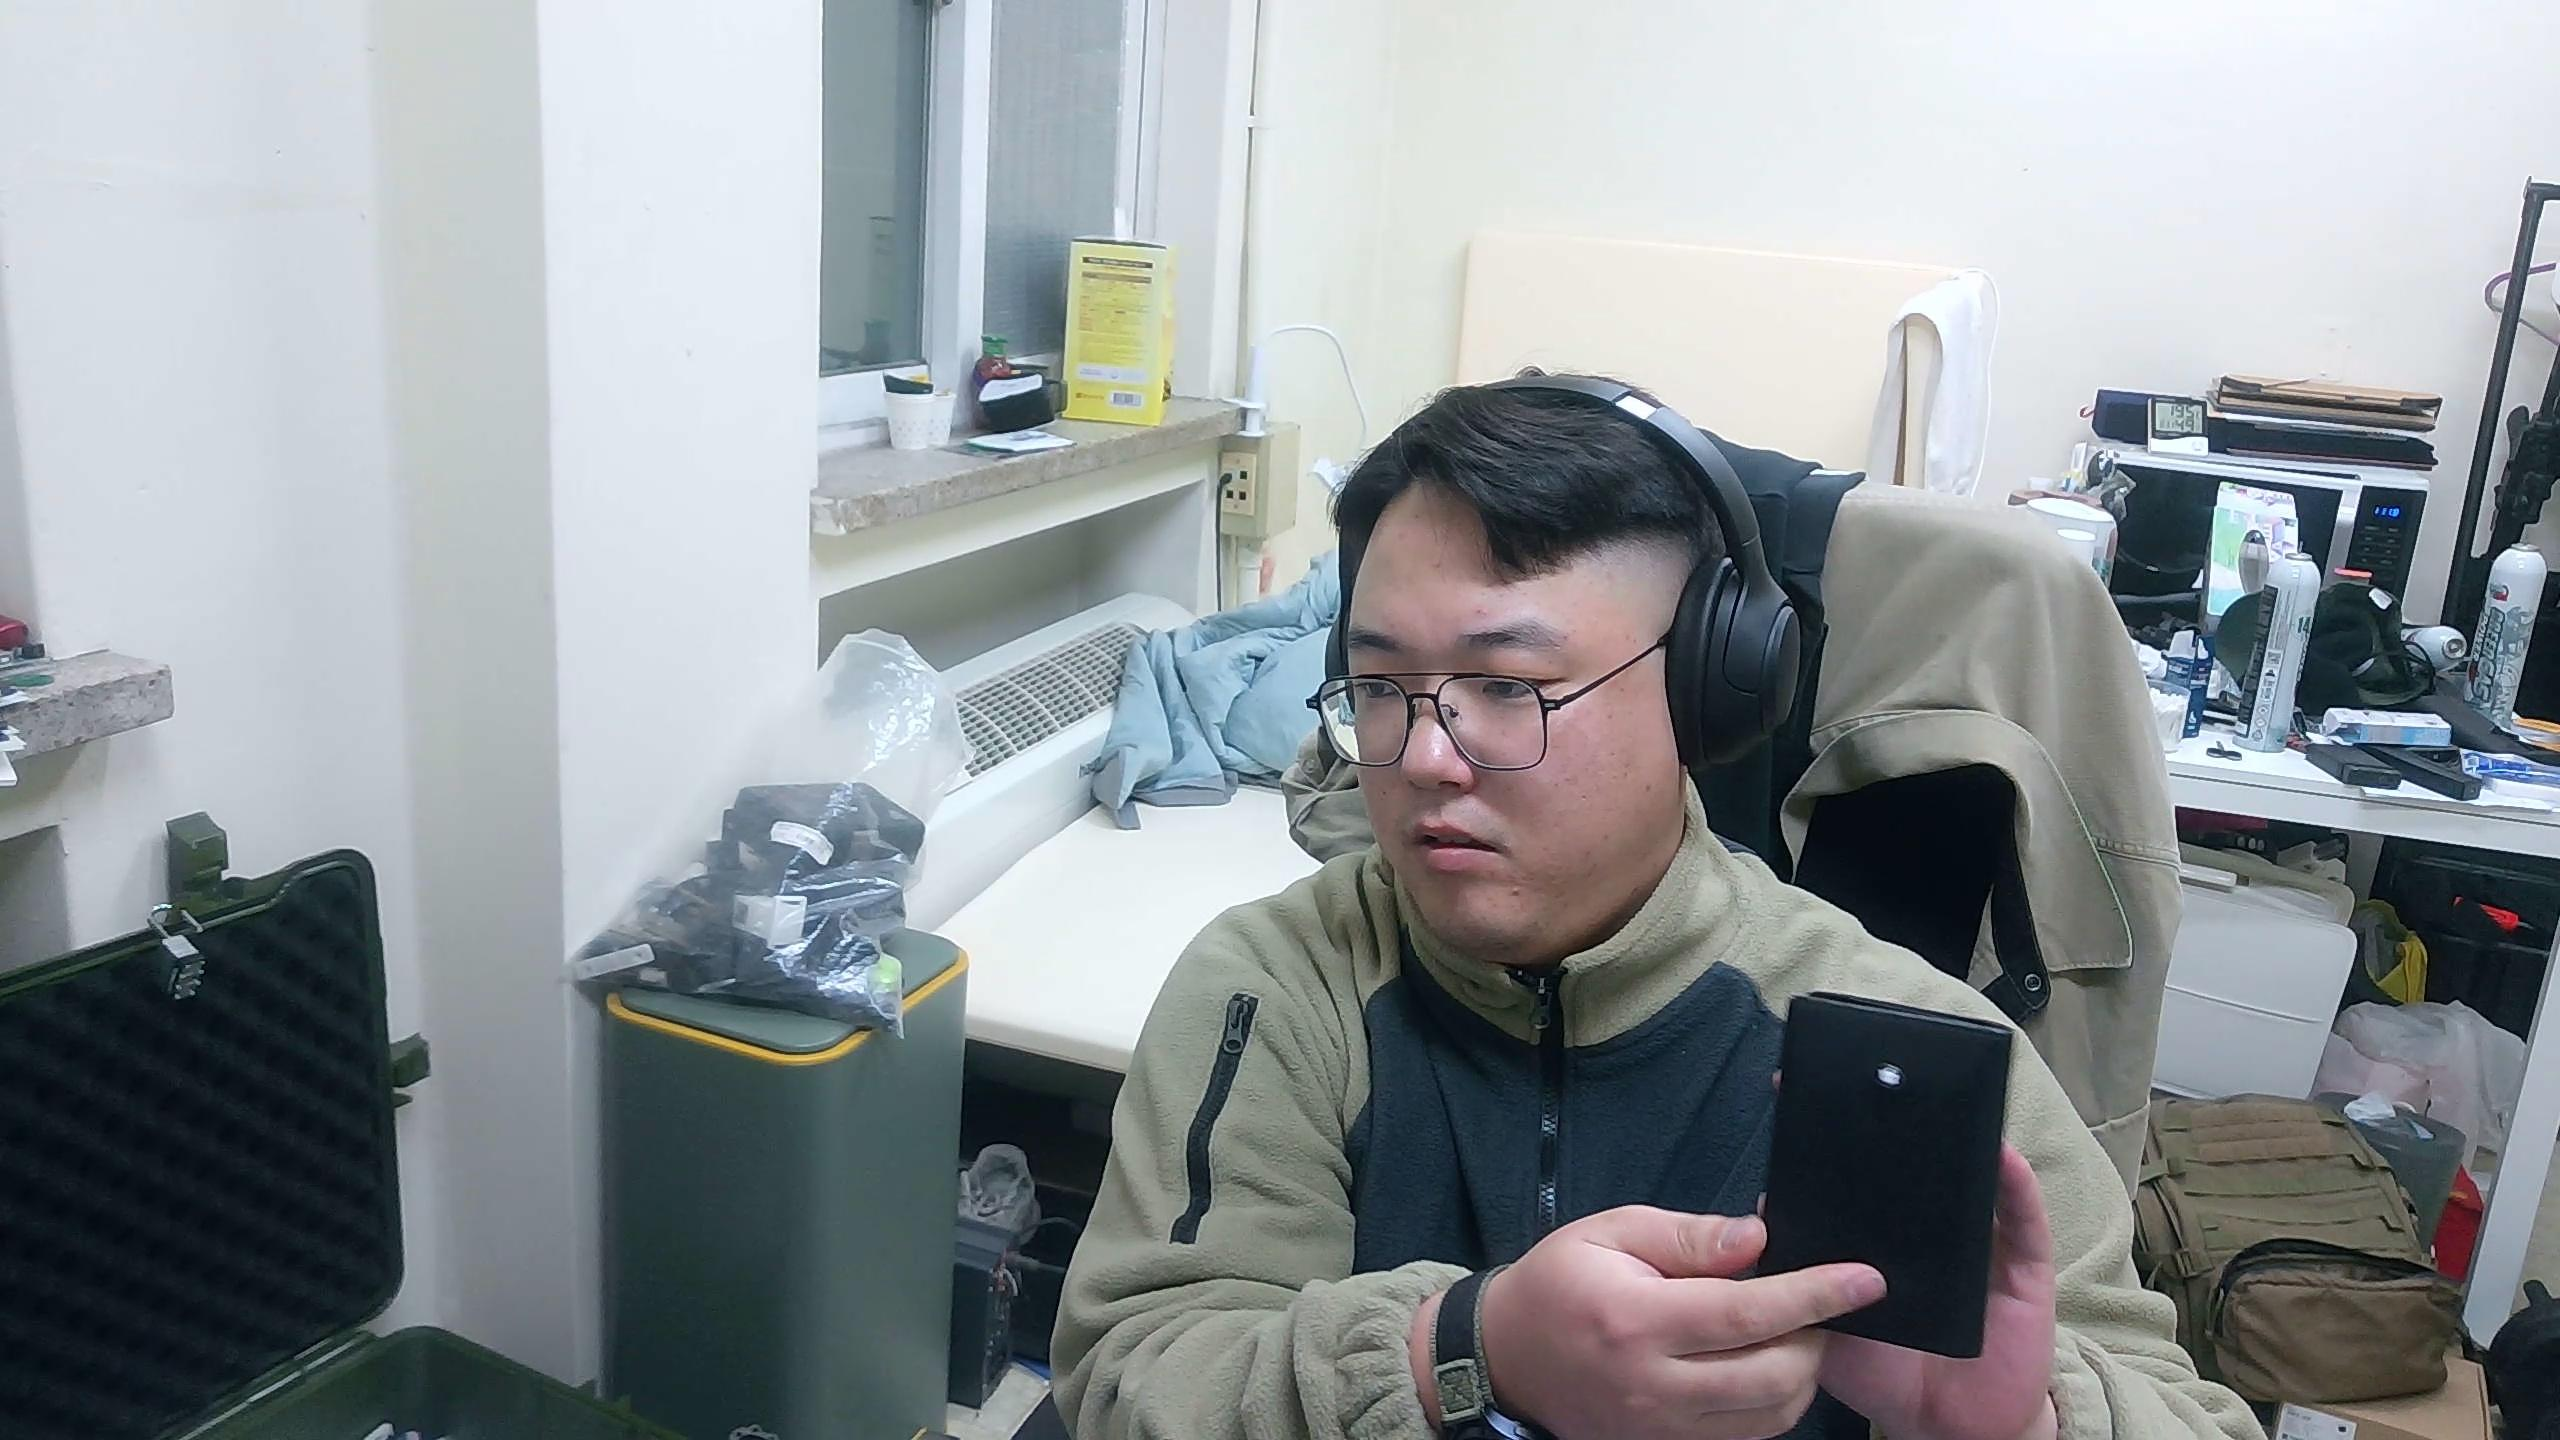Wallet: (1753, 986, 2018, 1363)
